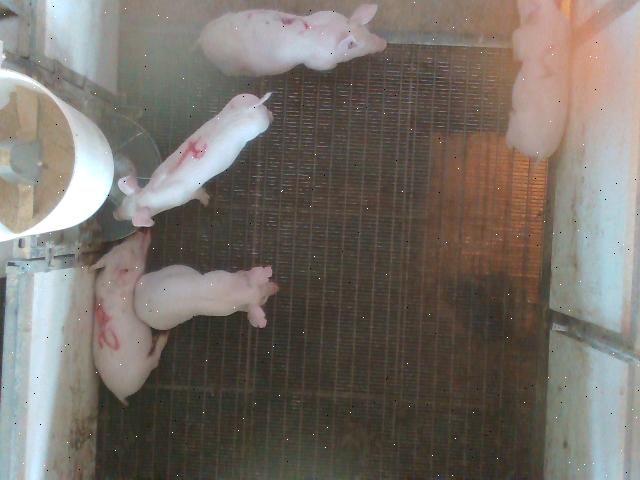pig-2: (198, 4, 386, 75), (506, 1, 571, 160)
pig-4: (116, 94, 272, 226)
pig-5: (94, 231, 168, 404)
